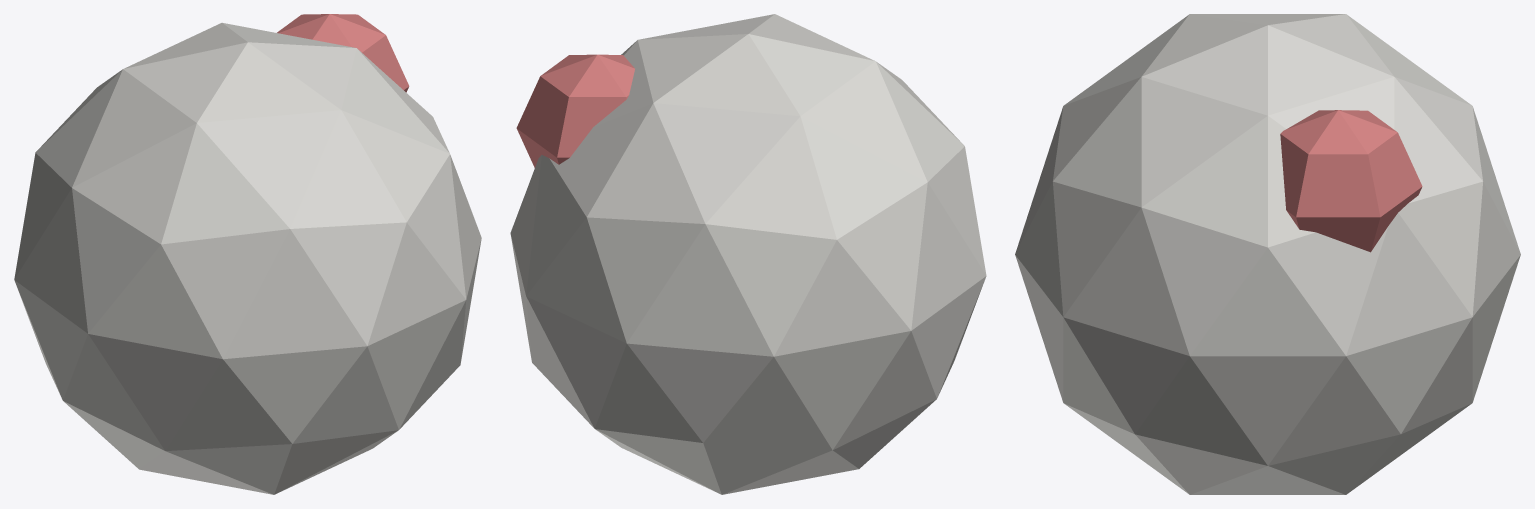
File: kid_bola.glb
3 renders of one model, left to right at view 1: azimuth 30°, elevation 25°; view 2: azimuth 150°, elevation 25°; view 3: azimuth 270°, elevation 25°, orthographic. The views are drawn at different scales.
Visible parts, largest first — view 1: KID_BOLA_v01; view 2: KID_BOLA_v01; view 3: KID_BOLA_v01.
Boxes of the visible parts, x1,y1,x2,y2 form: KID_BOLA_v01: (14, 14, 481, 494); KID_BOLA_v01: (510, 14, 986, 494); KID_BOLA_v01: (1015, 14, 1520, 494).
Bounding box in the file's own units: 0.3424 × 0.36 × 0.36.
